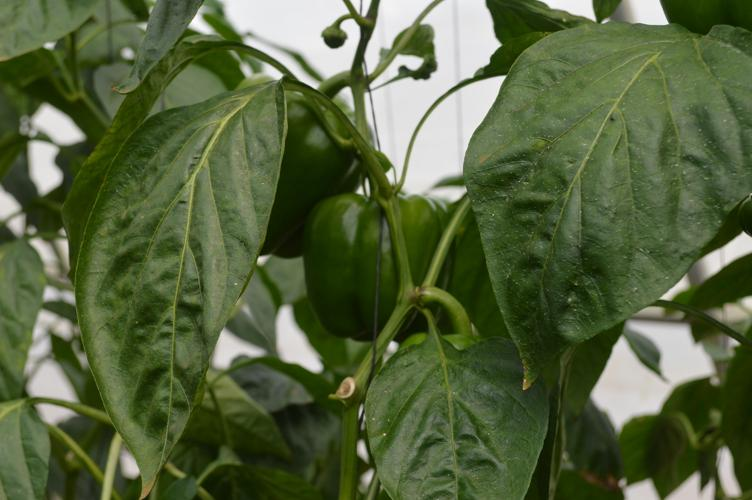BellPepper: (237, 80, 357, 257), (313, 195, 453, 335)
